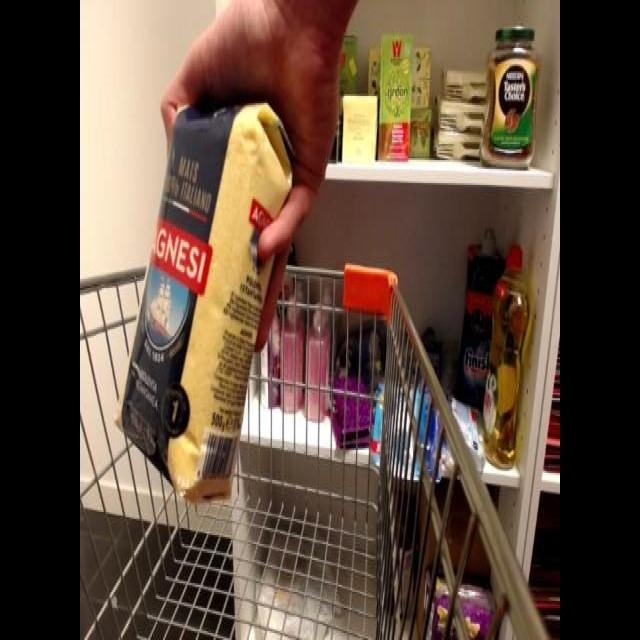Agnesi Polenta: (110, 90, 308, 508)
